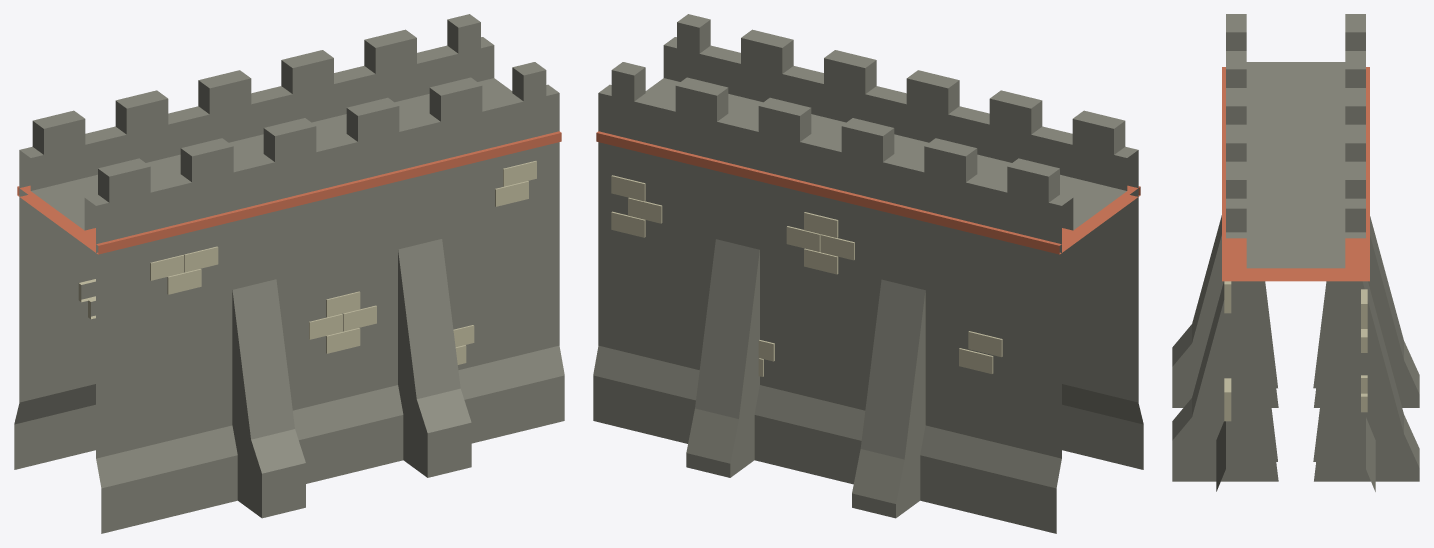
File: Wall_1.fbx
3 views of the same model, side by side, from view 1: azimuth 30°, elevation 25°; view 2: azimuth 150°, elevation 25°; view 3: azimuth 270°, elevation 25° (orthographic). The views are drawn at different scales.
Parts seen in each view (by area): view 1: Wall_1; view 2: Wall_1; view 3: Wall_1.
Part boxes in pixels (left/top/right/bottom): Wall_1: left=14, top=14, right=564, bottom=533; Wall_1: left=593, top=14, right=1143, bottom=533; Wall_1: left=1172, top=14, right=1419, bottom=491.
Bounding box in the file's own units: 224 × 161 × 113.
1 material, 1 textured.
